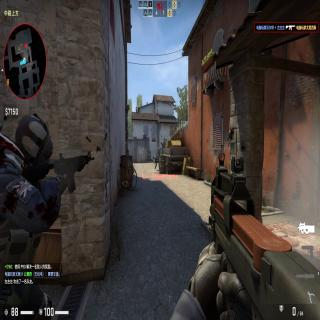T-Head: (153, 156, 156, 159)
